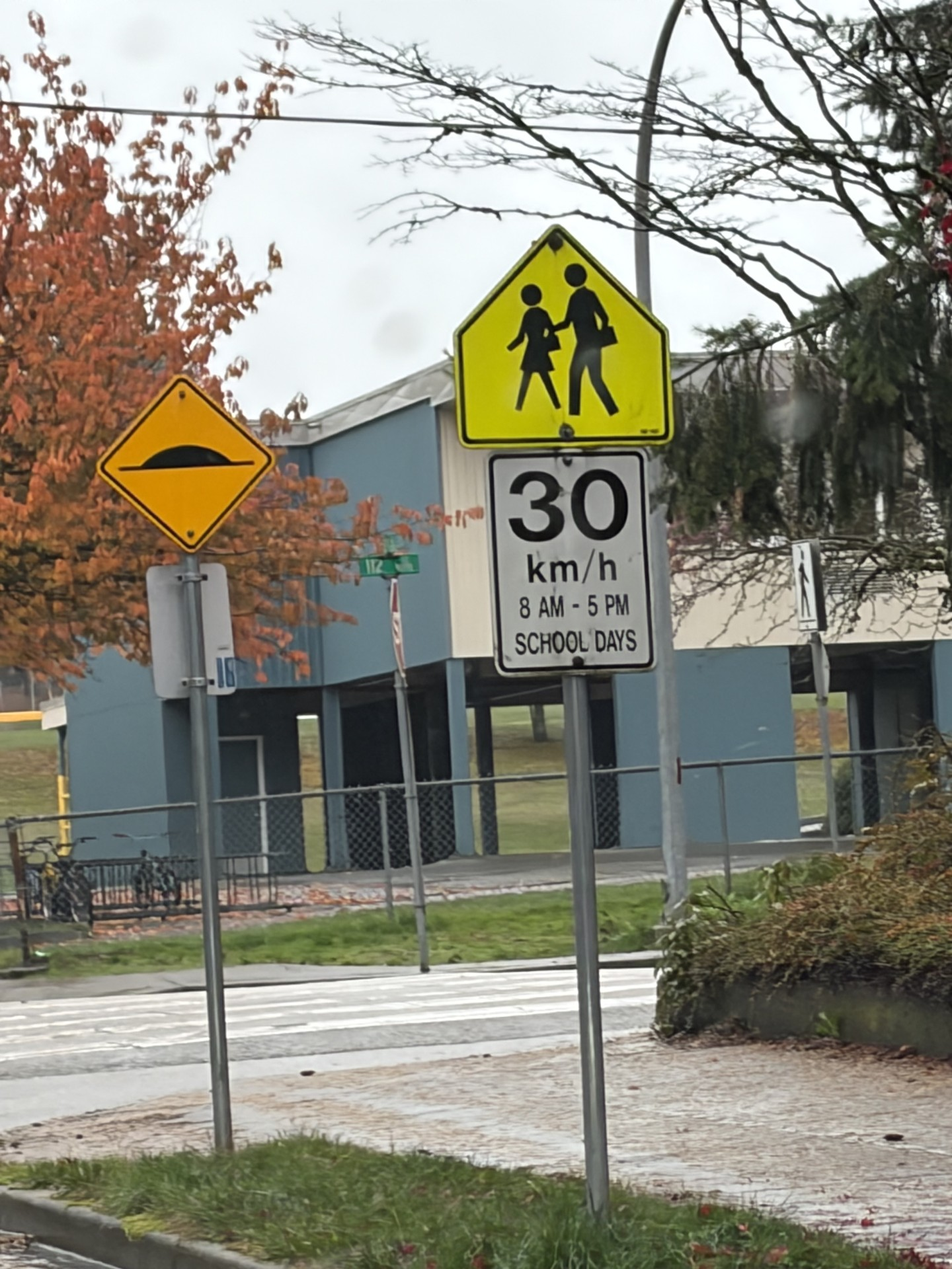school_zone: (413, 206, 709, 450)
speed_limit: (479, 447, 686, 690)
